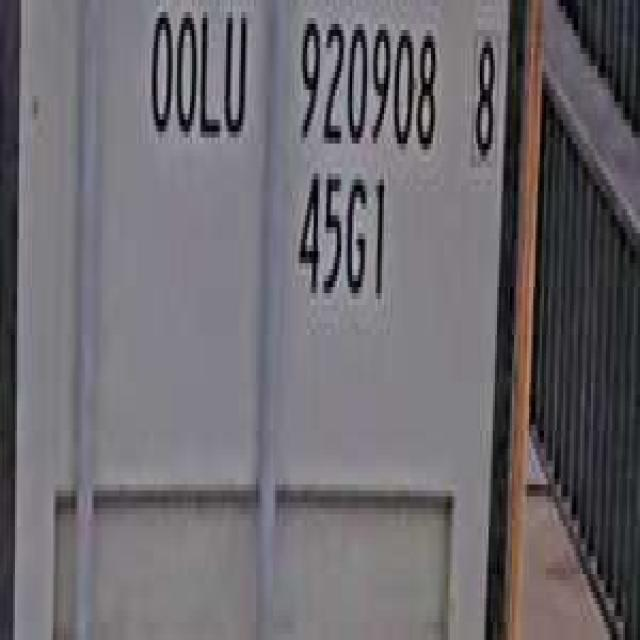dv: (465, 12, 499, 173)
owner: (141, 0, 252, 156)
serial: (292, 0, 441, 161)
size: (292, 162, 390, 317)
